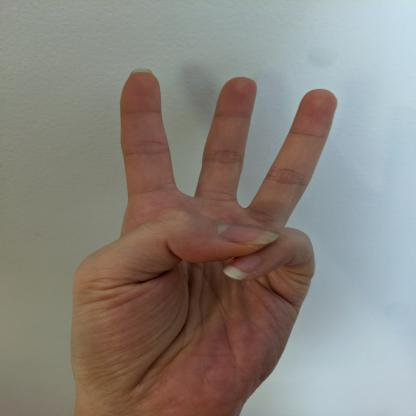W: (63, 64, 345, 416)
